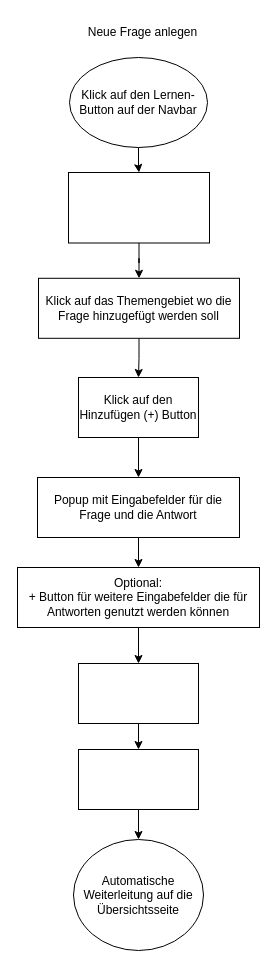
The diagram is 277 pixels wide and 968 high, and some of its shapes have lost their labels. The centre of each missing label's shape, as x and y in pixels:
Klick auf das Fach wo die Frage hinzugefügt werden soll: pixel 139 207
Klick auf den Speichern Button: pixel 138 693
Speicherung ins Backend mit Post-Request: pixel 138 779
